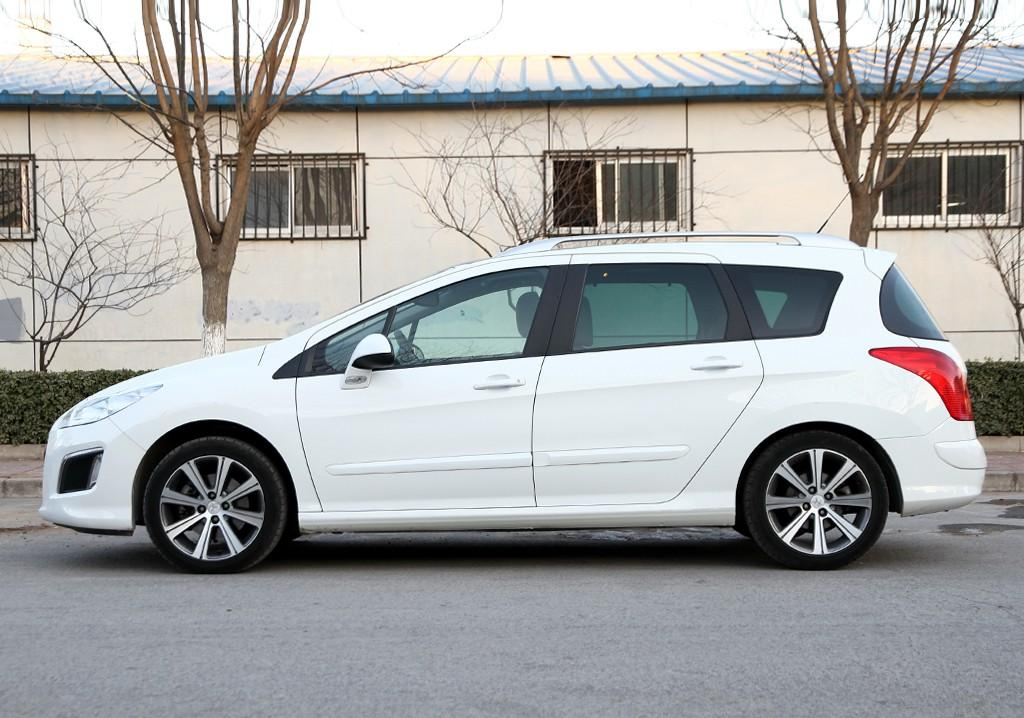Wagon: (36, 231, 988, 570)
